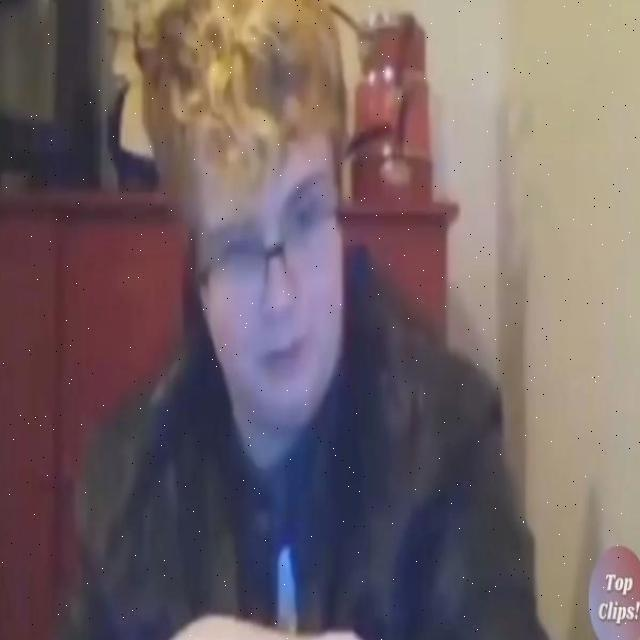person: (67, 0, 550, 640)
